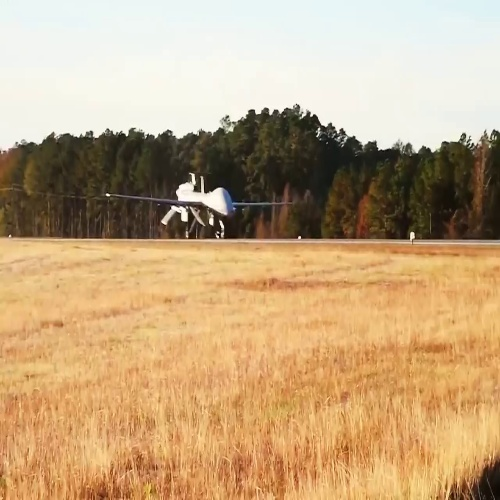uav154: (98, 169, 295, 240)
